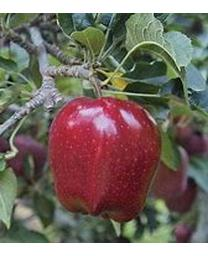apple: (46, 95, 161, 223)
